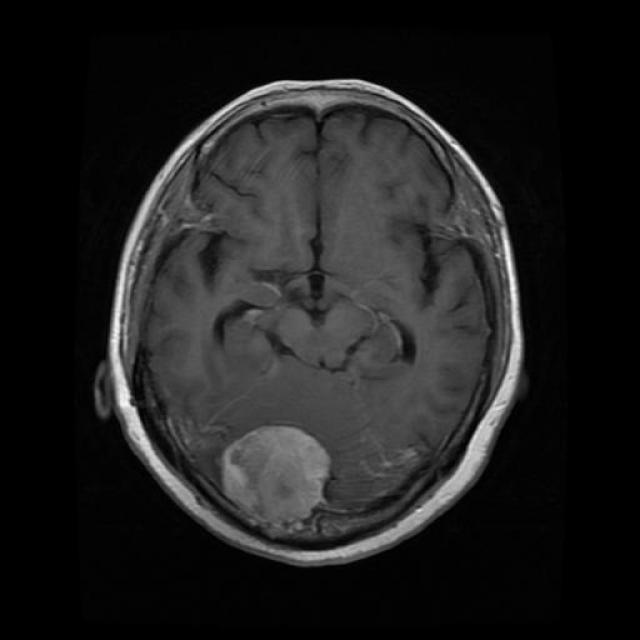Brain-Tumor: (215, 416, 342, 541)
